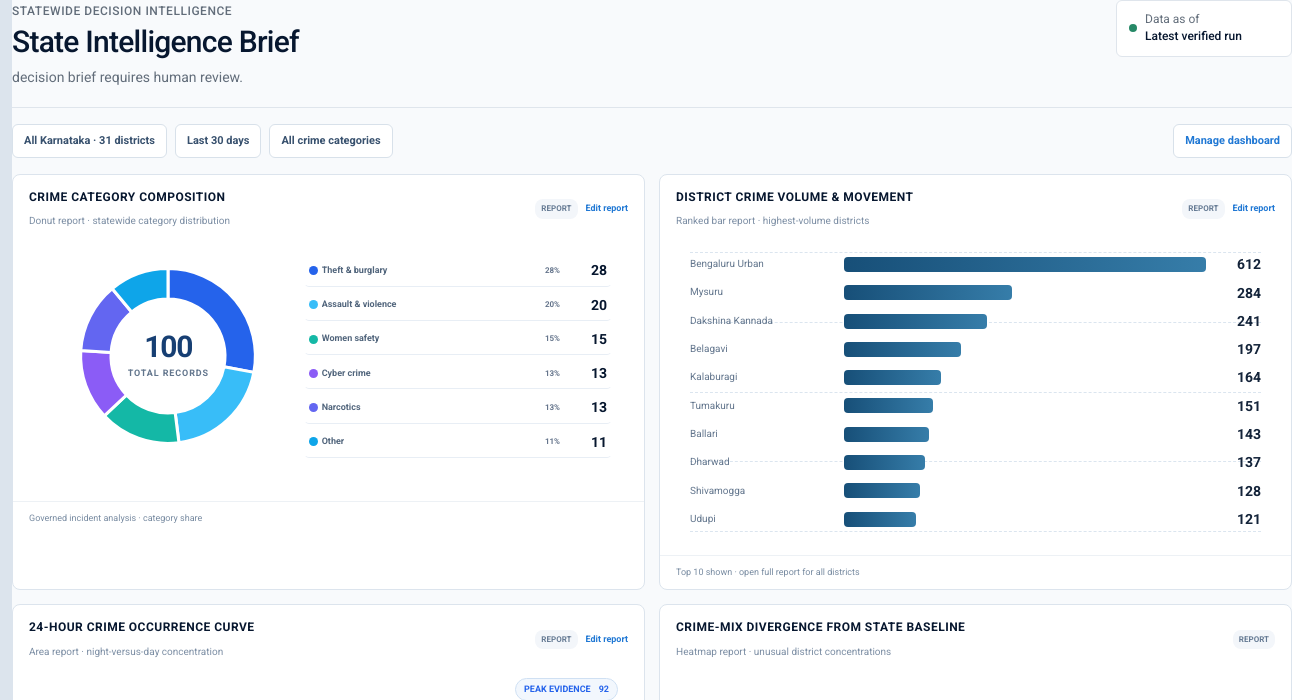
Test: leadership workspace renders the approved report-led state brief
Expected: the heading "State Intelligence Brief" is shown, [12,25,299,60]
Expected: the text "decision brief requires human review." is shown, [12,69,243,85]
Click the button "Theft & burglary 28% 28" at (355, 270), box [304,254,612,287]
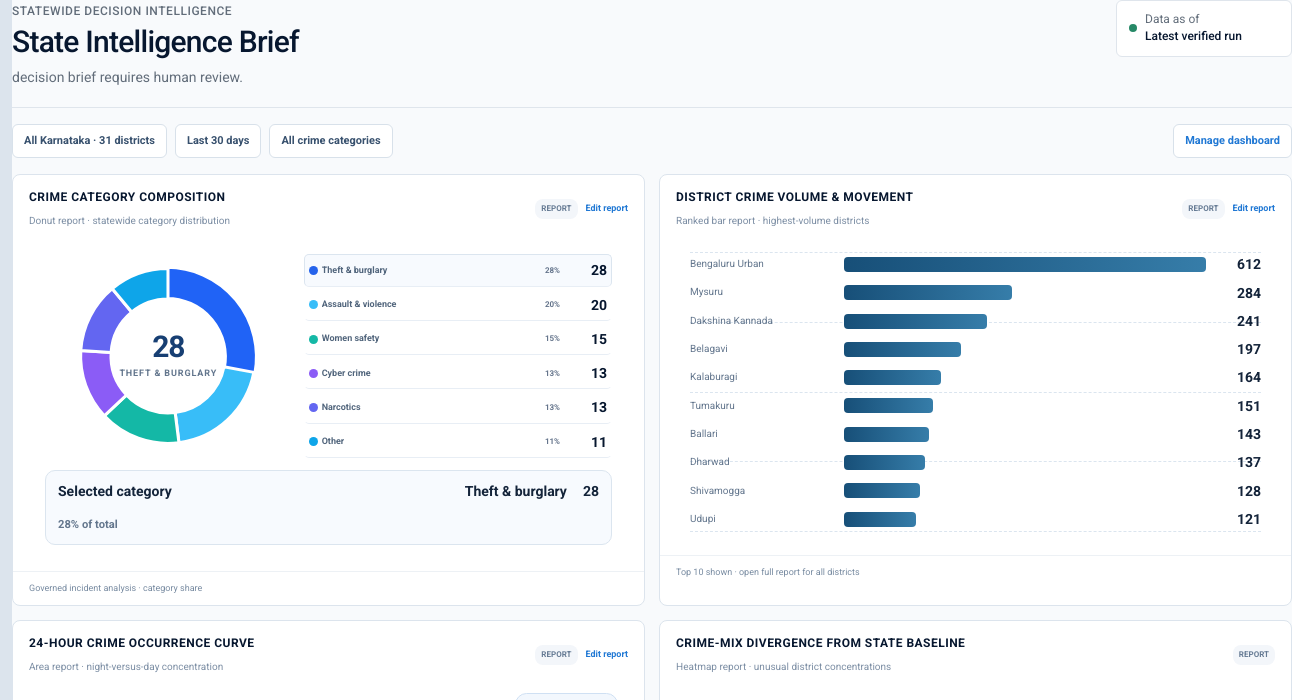
Expected: the number of links "Edit report" is 3, [586,202,628,215]; [1232,202,1275,215]; [586,648,628,661]
Expected: the element "Selected category" shows "28", [583,483,599,499]
